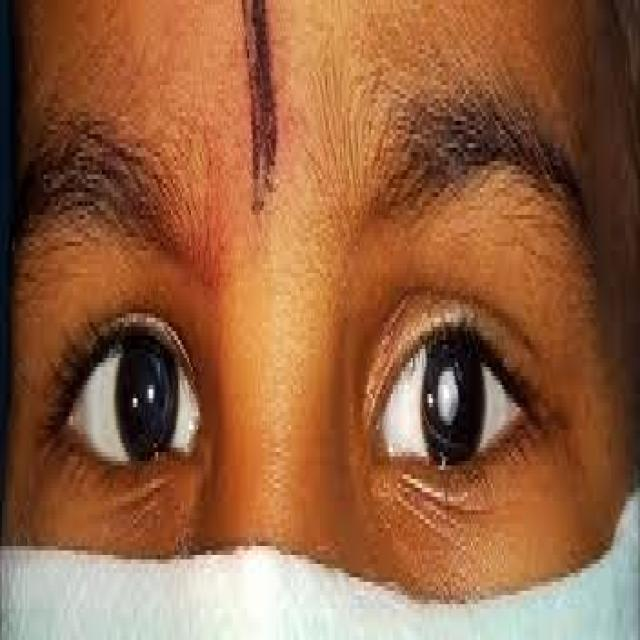reflexo-alterado: (401, 331, 493, 478)
reflexo-normal: (86, 348, 196, 494)
